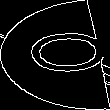O_E: (5, 31, 105, 79)
